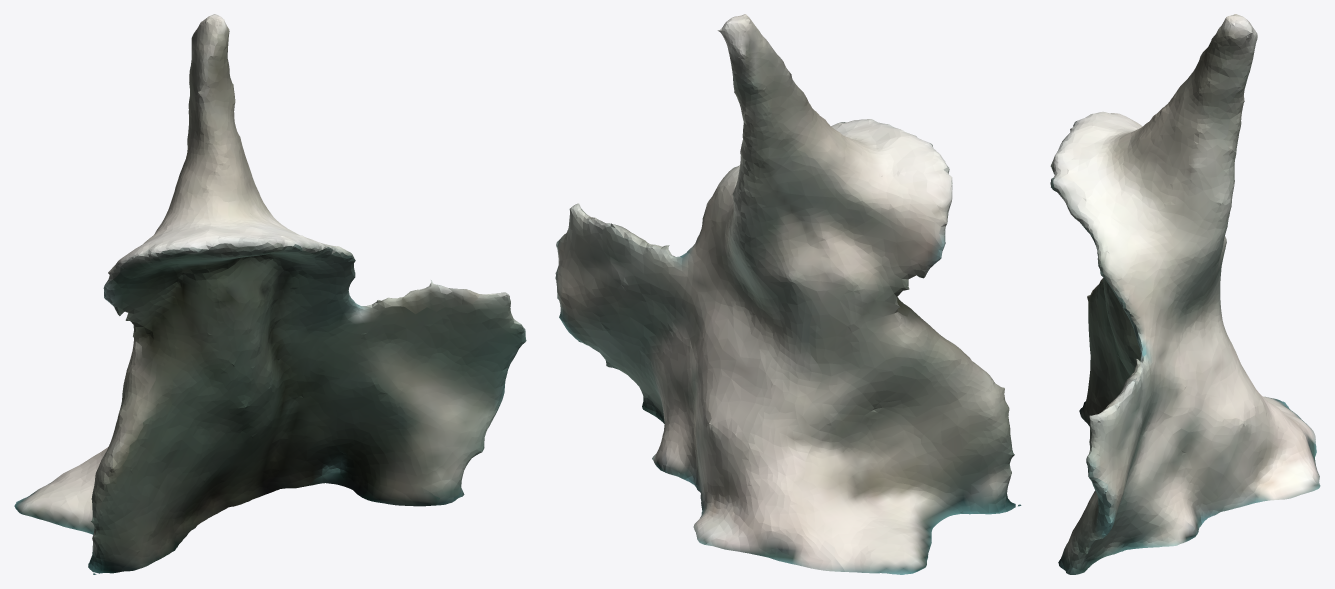
Rendered from Magicmoth.glb.
3 renders of one model, left to right at view 1: azimuth 30°, elevation 25°; view 2: azimuth 150°, elevation 25°; view 3: azimuth 270°, elevation 25°, orthographic. The views are drawn at different scales.
Parts seen in each view (by area): view 1: mesh.017; view 2: mesh.017; view 3: mesh.017.
Part boxes in pixels (x1,y1,x2,y2): mesh.017: (14,14,526,574); mesh.017: (555,14,1021,574); mesh.017: (1050,14,1320,574).
Bounding box in the file's own units: 0.2814 × 0.286 × 0.148.
1 material, 1 textured.
